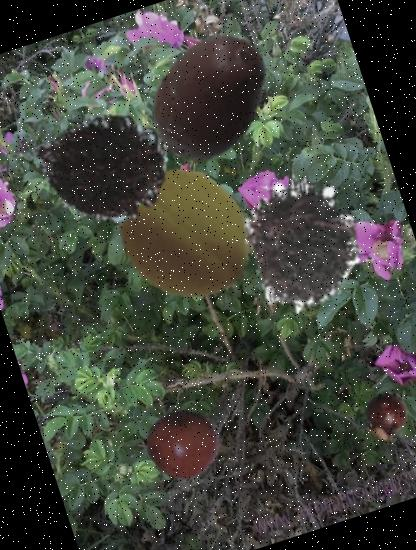Mangostan: (351, 384, 416, 451)
Peach: (97, 147, 272, 322)
Pomegranate: (136, 396, 231, 491)
Potato: (124, 10, 295, 181)
Rambutan: (210, 149, 394, 333), (12, 81, 186, 255)
